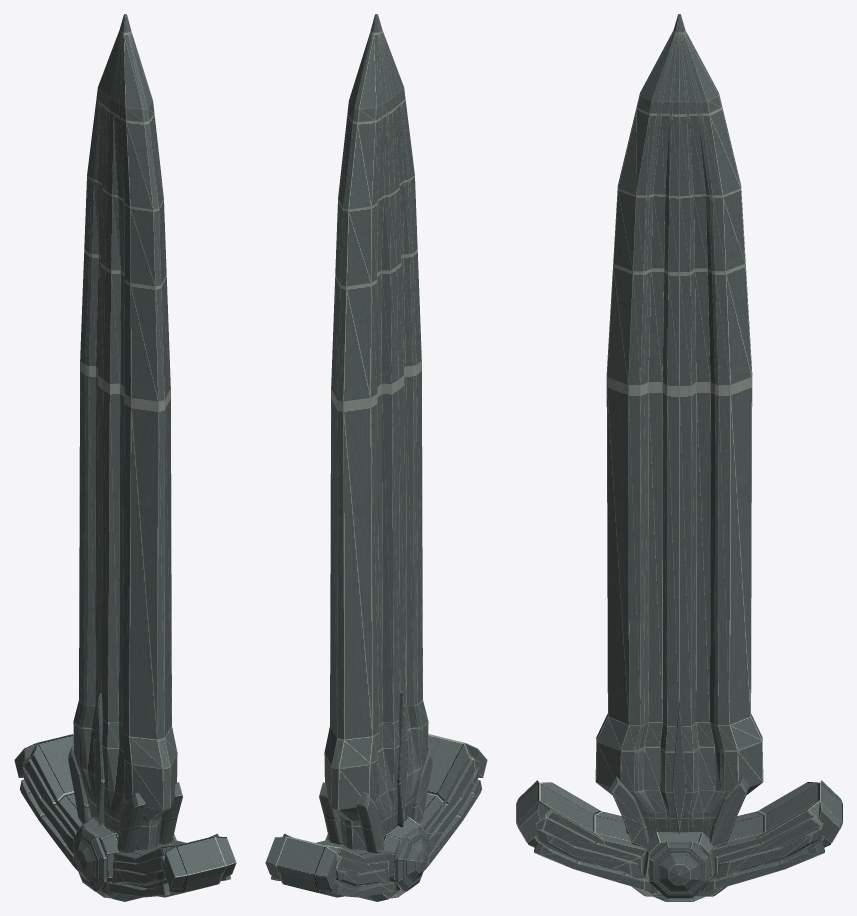
Rendered from workpiece_jindan_jinwu_sword_shaped.obj.
3 views of the same model, side by side, from view 1: azimuth 30°, elevation 25°; view 2: azimuth 150°, elevation 25°; view 3: azimuth 270°, elevation 25° (orthographic).
Parts seen in each view (by area): view 1: geometry; view 2: geometry; view 3: geometry.
Part boxes in pixels (x1,y1,x2,y2): geometry: (14, 14, 236, 901); geometry: (265, 14, 487, 901); geometry: (516, 14, 842, 901).
Size of the model in its own units: 0.169 by 1.52 by 0.5163.
